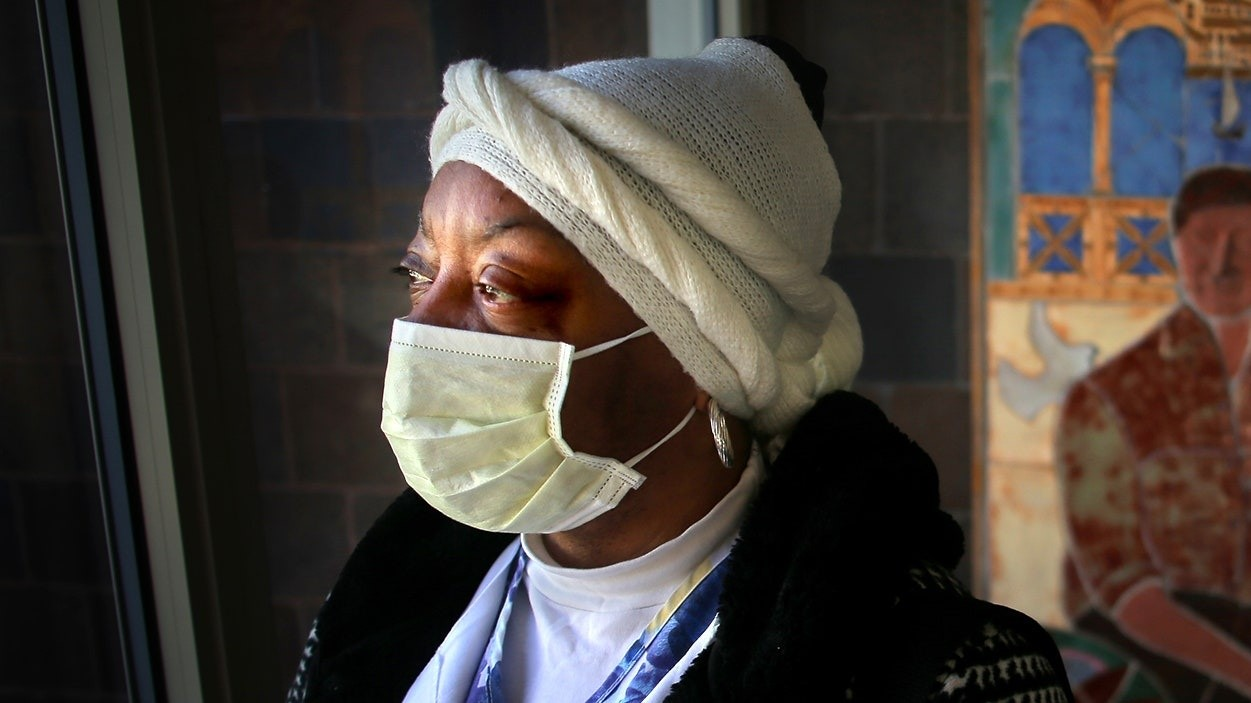face_with_mask: (378, 41, 858, 535)
